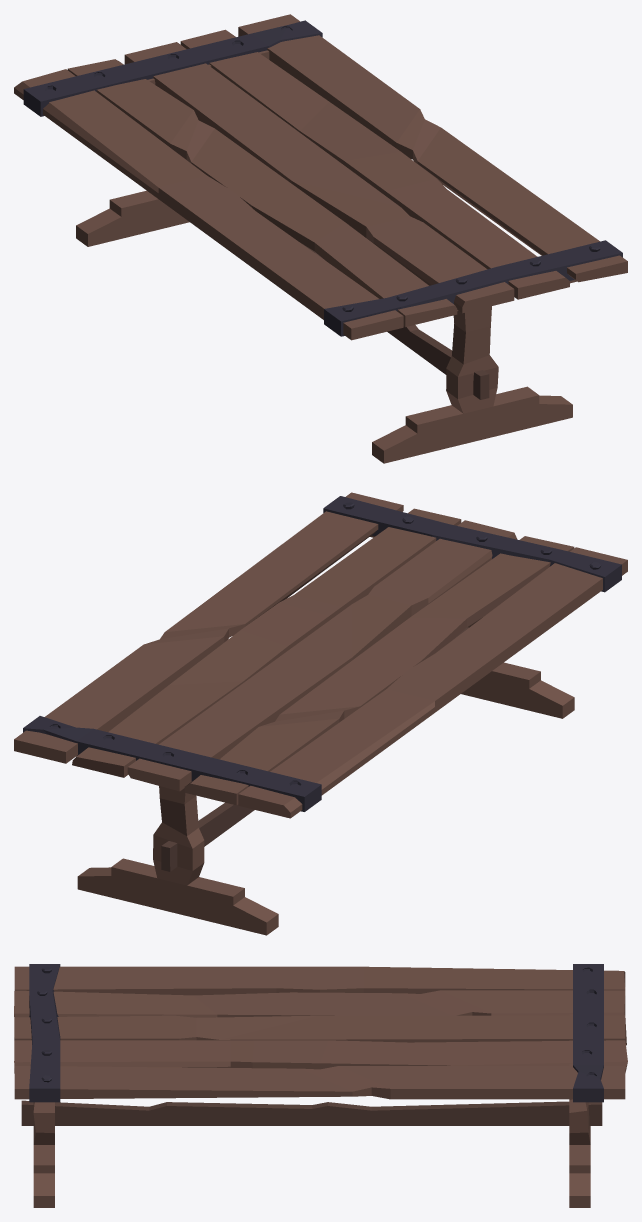
Rendered from Table_Big.glb.
3 views of the same model, one above another, from view 1: azimuth 30°, elevation 25°; view 2: azimuth 150°, elevation 25°; view 3: azimuth 270°, elevation 25° (orthographic). The views are drawn at different scales.
Visible parts, largest first — view 1: Table_Big; view 2: Table_Big; view 3: Table_Big.
Boxes of the visible parts, left/top/right/bottom form: Table_Big: left=14, top=14, right=627, bottom=463; Table_Big: left=14, top=492, right=627, bottom=935; Table_Big: left=14, top=964, right=627, bottom=1207.
Bounding box in the file's own units: 1.58 × 0.854 × 3.3.
